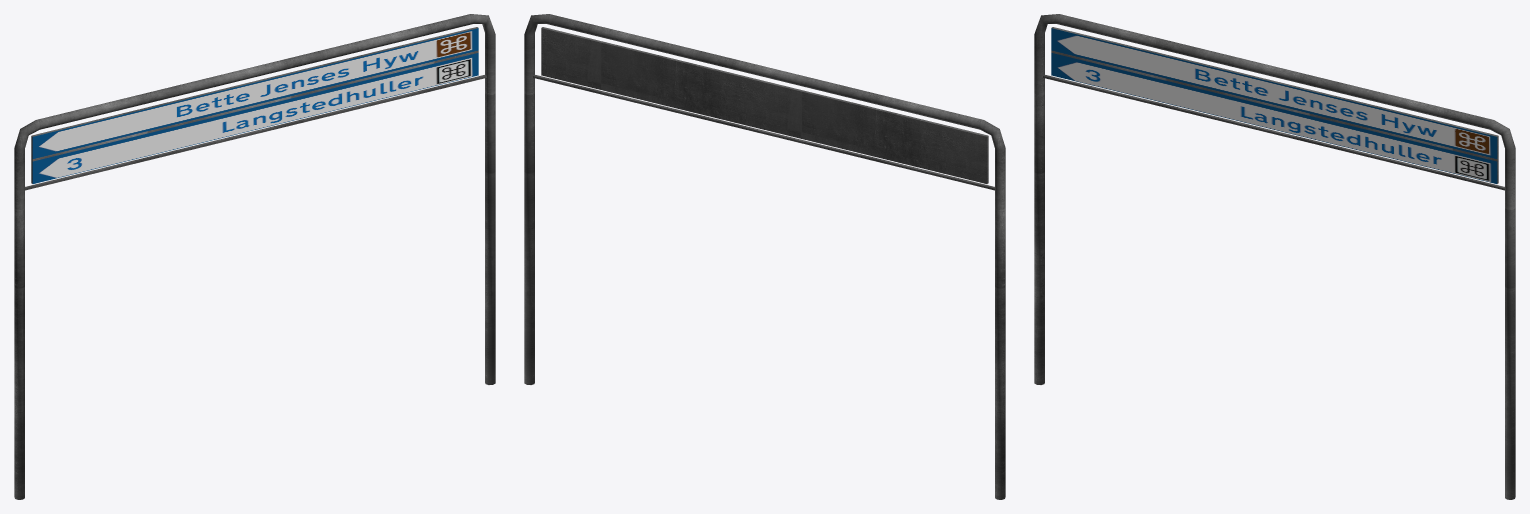
The model's file is SkilteStortFur1.fbx.
The picture shows the model from 3 angles, left to right: view 1: azimuth 30°, elevation 25°; view 2: azimuth 150°, elevation 25°; view 3: azimuth 330°, elevation 25°; orthographic projection.
Visible parts, largest first — view 1: Skilt_LOD0; view 2: Skilt_LOD0; view 3: Skilt_LOD0.
Part boxes in pixels (bbox=[...]): Skilt_LOD0: bbox=[14, 14, 495, 499]; Skilt_LOD0: bbox=[524, 14, 1005, 499]; Skilt_LOD0: bbox=[1034, 14, 1515, 499].
Size of what is drawn, in the model's own units: 255 by 190 by 5.
